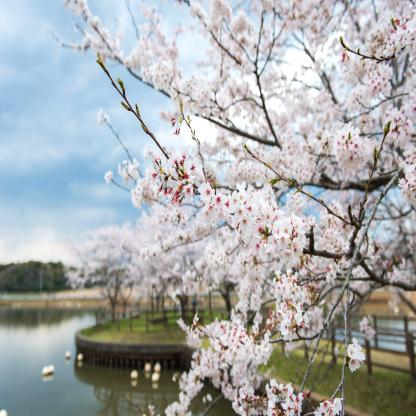Someiyoshino: (38, 2, 416, 413), (62, 209, 252, 300)
